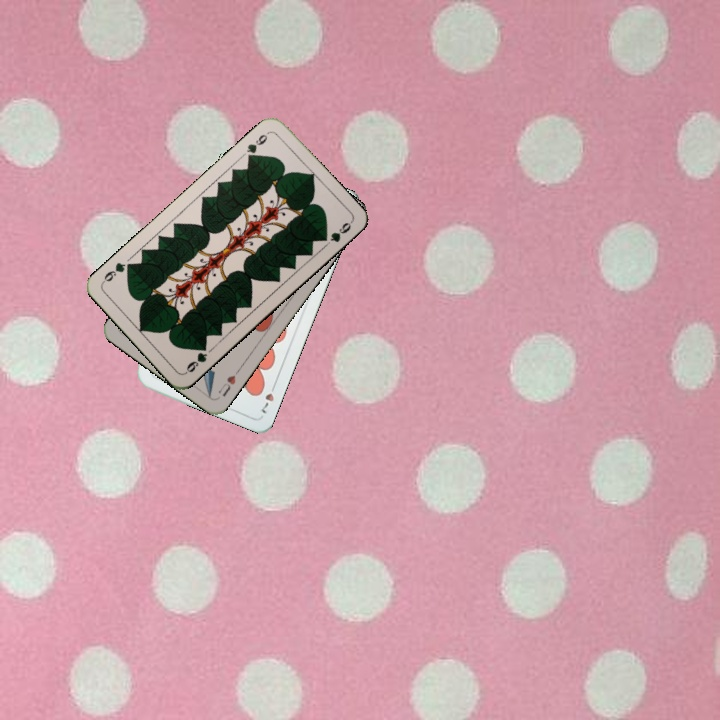G9: (181, 340, 210, 376), (243, 128, 272, 163)
H7: (256, 379, 279, 416)
HU: (214, 365, 242, 399)
